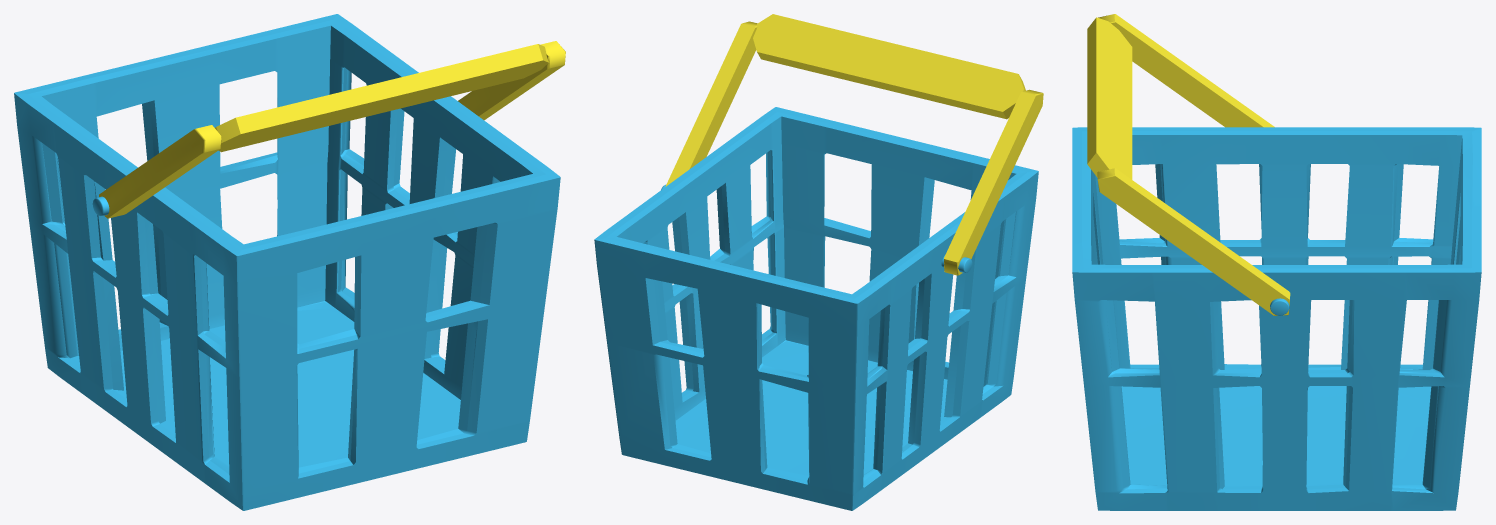
Rendered from gouwuche.fbx.
3 views of the same model, side by side, from view 1: azimuth 30°, elevation 25°; view 2: azimuth 150°, elevation 25°; view 3: azimuth 270°, elevation 25° (orthographic). The views are drawn at different scales.
Visible parts, largest first — view 1: kuang_group5_group4_pCylinder2, kuang_group5_group4_pCube6; view 2: kuang_group5_group4_pCylinder2, kuang_group5_group4_pCube6; view 3: kuang_group5_group4_pCylinder2, kuang_group5_group4_pCube6.
Part boxes in pixels (<box>): kuang_group5_group4_pCylinder2: <box>14,14,560,510</box>; kuang_group5_group4_pCube6: <box>99,41,565,218</box>; kuang_group5_group4_pCylinder2: <box>594,107,1038,510</box>; kuang_group5_group4_pCube6: <box>665,14,1043,275</box>; kuang_group5_group4_pCylinder2: <box>1072,127,1481,510</box>; kuang_group5_group4_pCube6: <box>1087,14,1290,315</box>.
Size of the model in its own units: 2 by 2.07 by 2.02.
